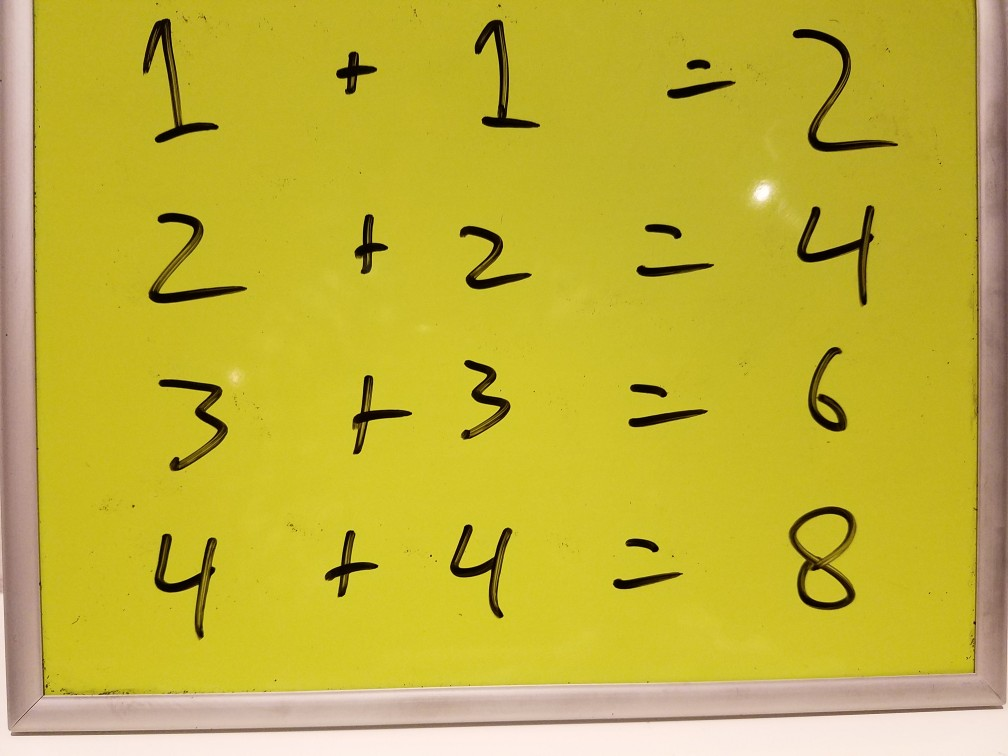+: (340, 375, 417, 460), (315, 522, 381, 605), (336, 203, 397, 283), (329, 44, 388, 112)
1: (129, 10, 227, 147), (466, 9, 544, 141)
2: (779, 16, 905, 162), (138, 201, 248, 316), (441, 200, 539, 303)
3: (144, 363, 244, 477), (447, 344, 528, 448)
4: (782, 187, 886, 318), (141, 522, 240, 647), (444, 513, 520, 633)
6: (791, 336, 864, 441)
8: (773, 497, 869, 618)
=: (624, 211, 720, 291), (597, 520, 691, 601), (618, 369, 712, 438), (652, 39, 738, 109)
